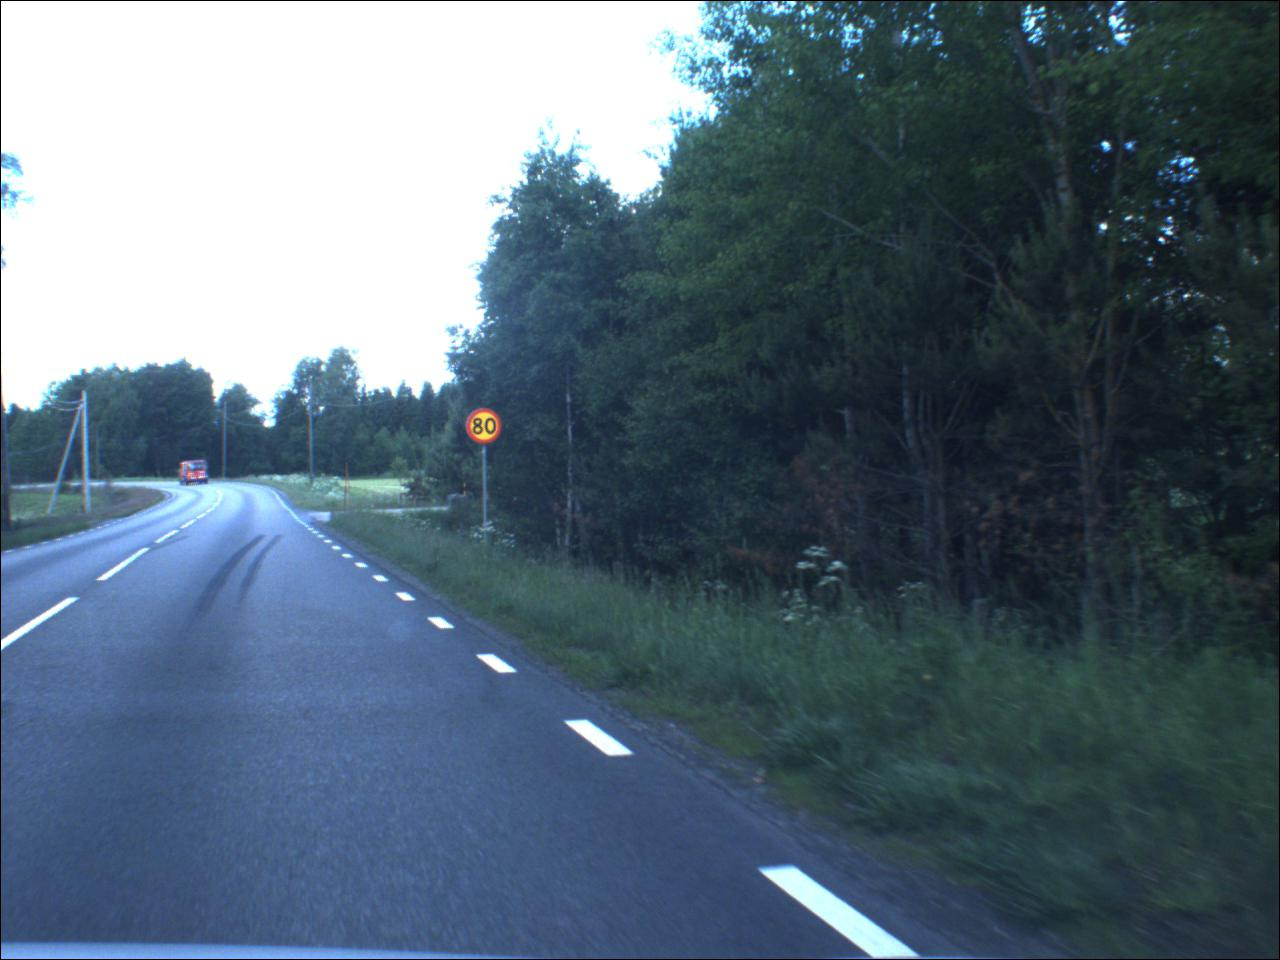80_SIGN: (468, 410, 506, 447)
